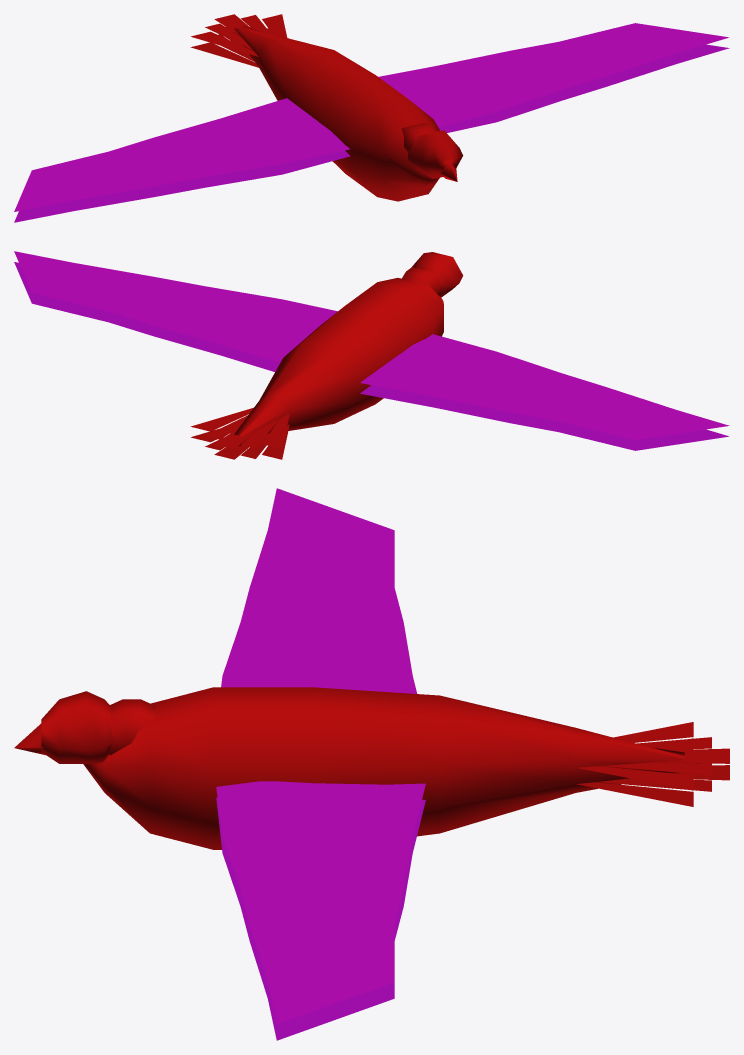
The model's file is puffin.glb.
3 renders of one model, top to bottom at view 1: azimuth 30°, elevation 25°; view 2: azimuth 150°, elevation 25°; view 3: azimuth 270°, elevation 25°, orthographic. The views are drawn at different scales.
Visible parts, largest first — view 1: bird; view 2: bird; view 3: bird.
Part boxes in pixels (x1,y1,x2,y2): bird: (14, 14, 729, 222); bird: (14, 251, 729, 459); bird: (14, 488, 729, 1040).
Size of the model in its own units: 0.5469 by 0.0664 by 0.3086.
